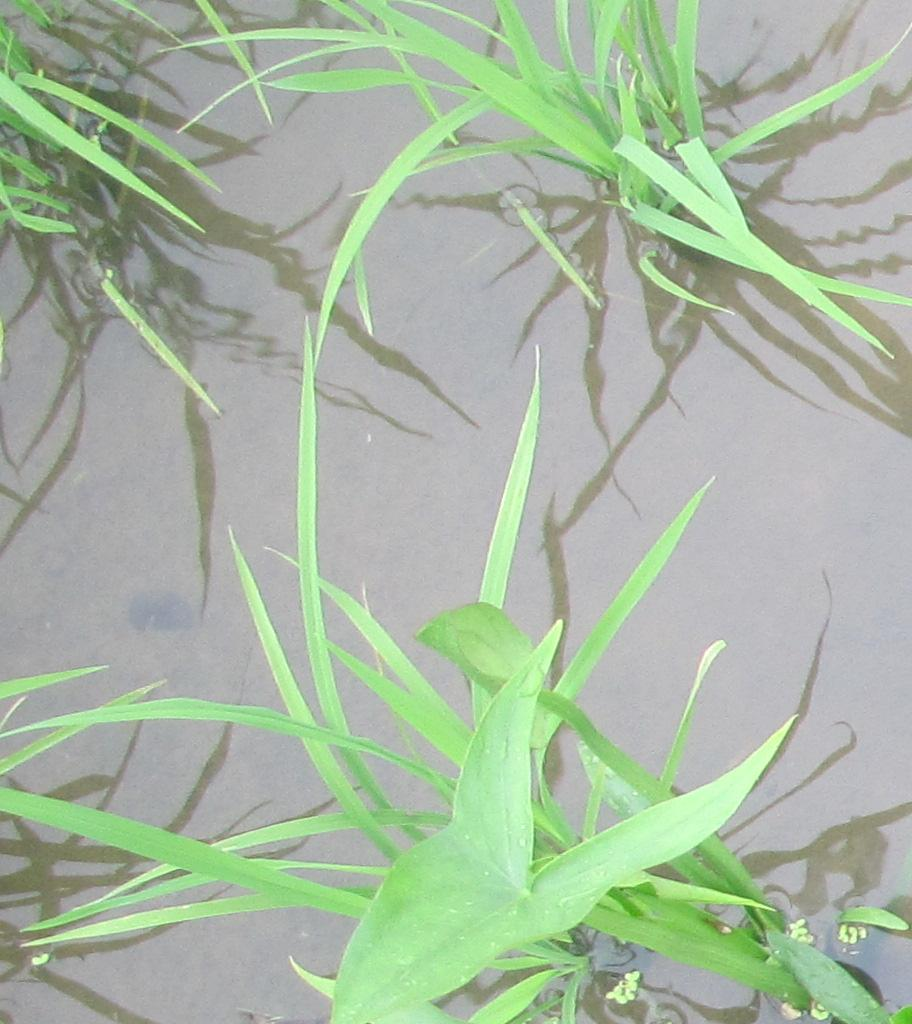Weed: (431, 603, 579, 899), (371, 836, 662, 977)
